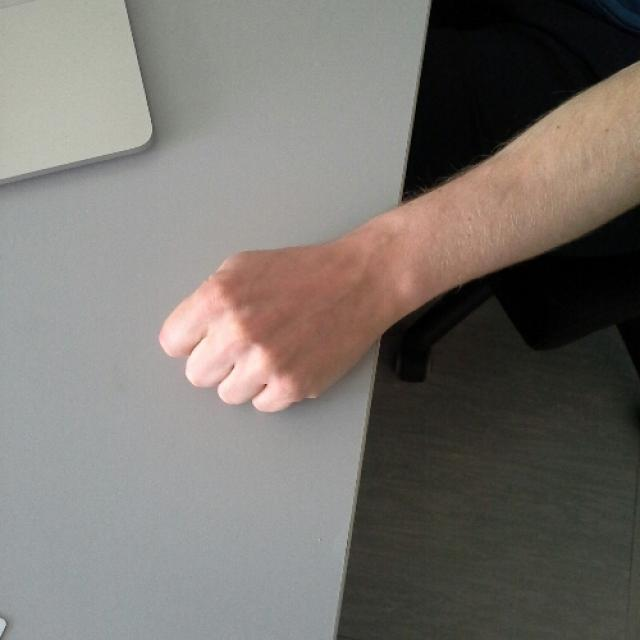rock: (162, 241, 358, 411)
